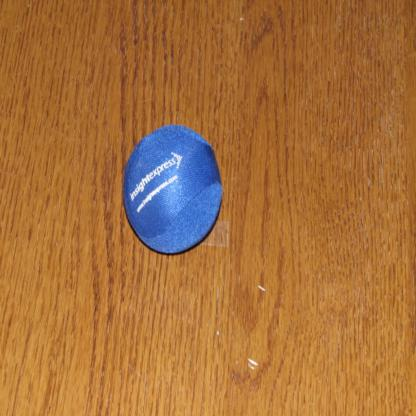Ball: (124, 122, 223, 255)
